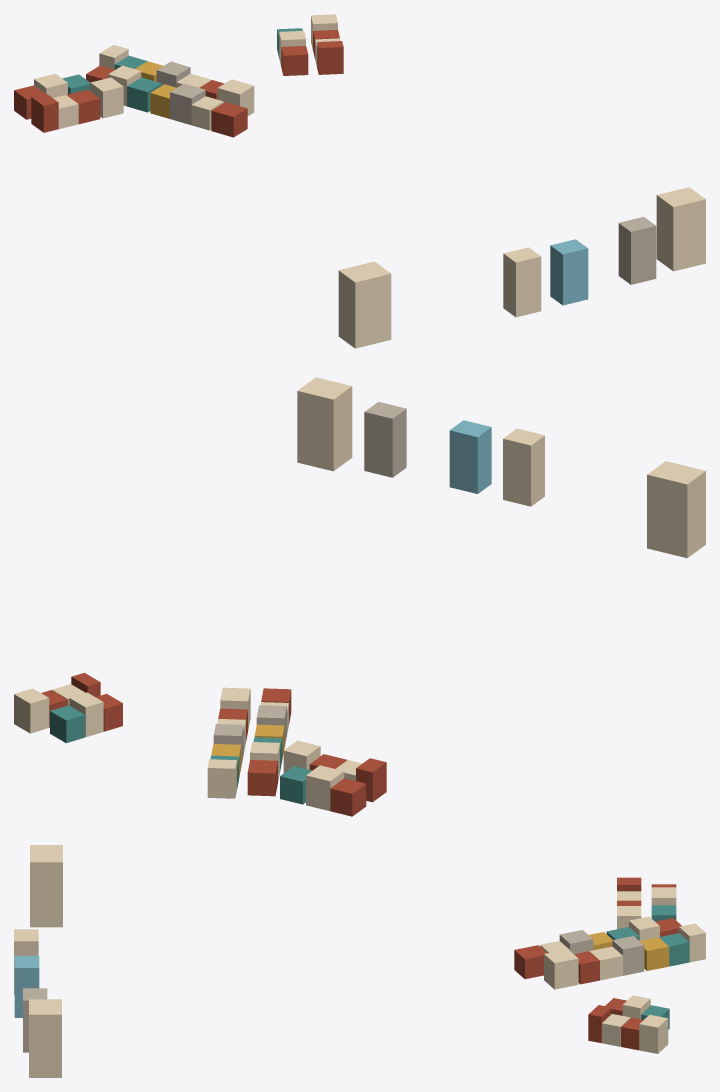
Rendered from chunk_skyline.glb.
3 views of the same model, one above another, from view 1: azimuth 30°, elevation 25°; view 2: azimuth 150°, elevation 25°; view 3: azimuth 270°, elevation 25° (orthographic). The views are drawn at different scales.
Parts seen in each view (by area): view 1: chunk_skyline__building; view 2: chunk_skyline__building; view 3: chunk_skyline__building.
Part boxes in pixels (<box>): chunk_skyline__building: <box>14,14,705,348</box>; chunk_skyline__building: <box>14,377,705,816</box>; chunk_skyline__building: <box>14,845,705,1077</box>.
Bounding box in the file's own units: 201 × 35 × 338.
